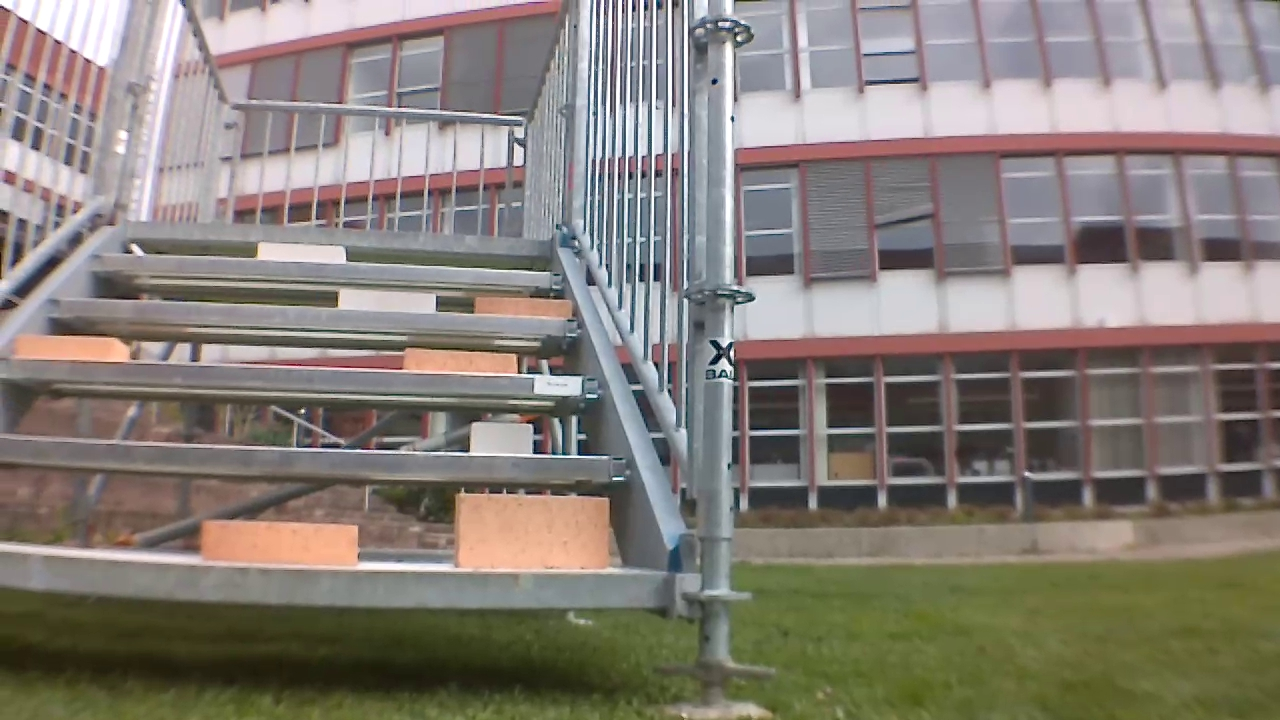brick: (460, 487, 607, 570), (206, 522, 366, 559), (467, 292, 582, 319), (467, 416, 539, 457), (402, 347, 517, 371), (343, 286, 436, 313), (16, 335, 124, 356), (248, 240, 345, 259)
edge: (0, 559, 688, 608), (43, 299, 603, 340), (93, 243, 571, 290), (0, 441, 636, 475), (127, 204, 564, 250), (0, 364, 618, 389)
stairs: (0, 0, 727, 669)
steps: (0, 229, 671, 601)
